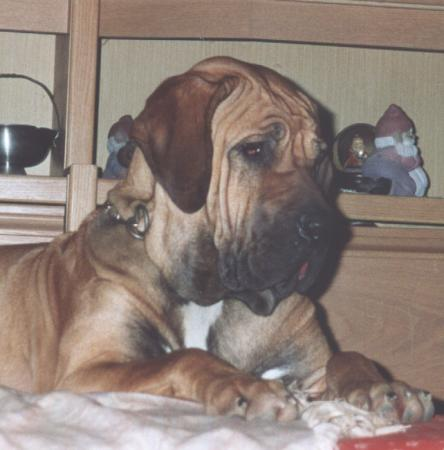fila_brasileiro: (0, 55, 435, 423)
